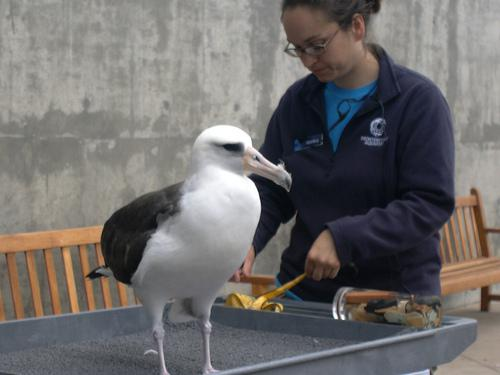002.Laysan_Albatross: (86, 122, 291, 375)
